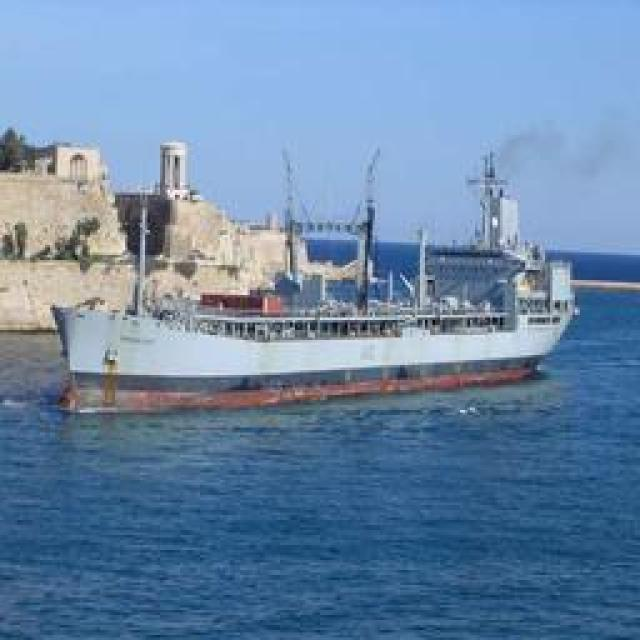CIV_Ship: (38, 135, 570, 415)
